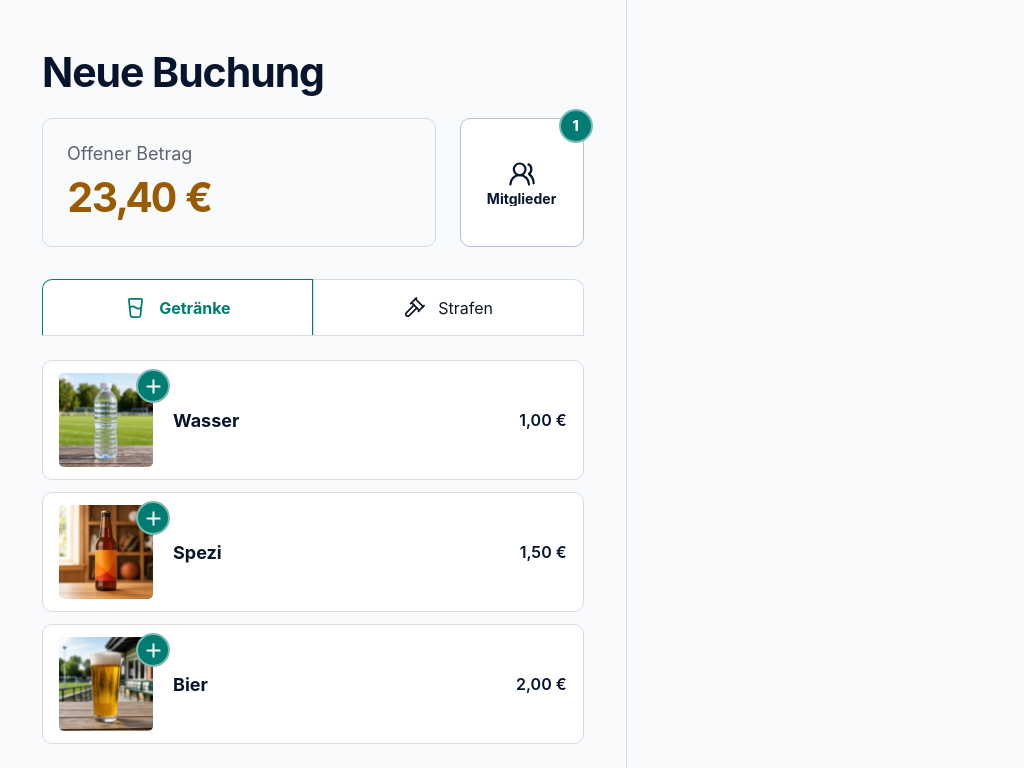
Scenario: BookingPage multi-product workspace › auto-minimizes after another fixed-price product without losing the booking draft
Click the button "Mitglieder 1" at (522, 183), box [460,118,584,247]
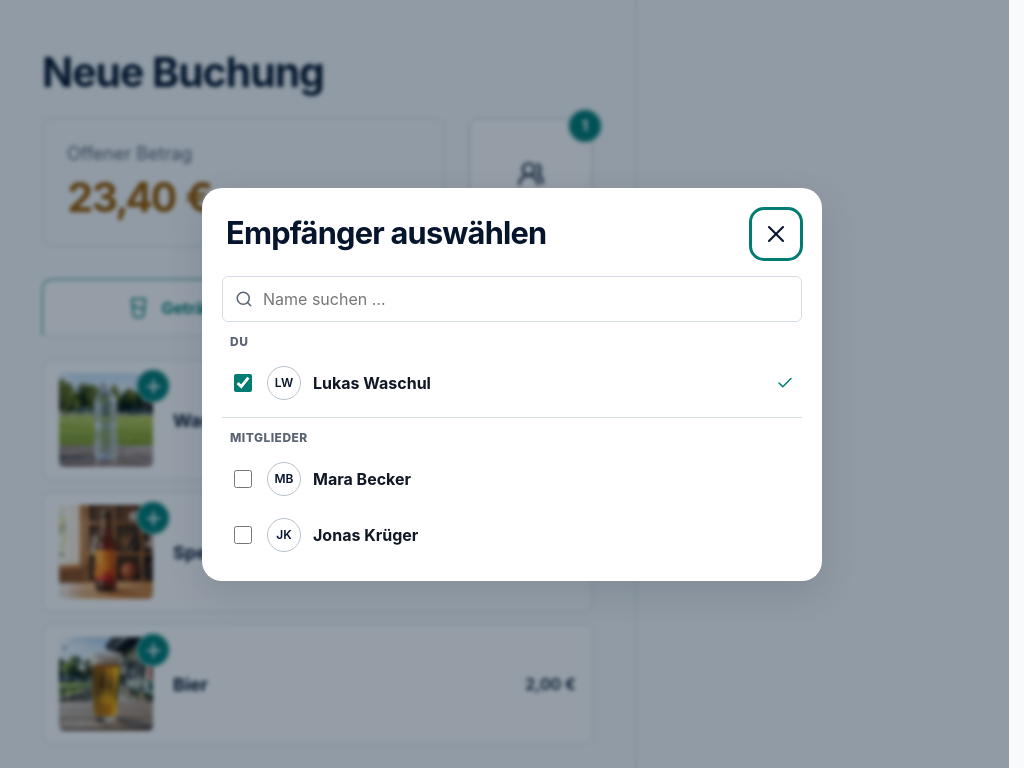
Click the checkbox labelled "MB Mara Becker" at (243, 478), box [234,470,252,488]
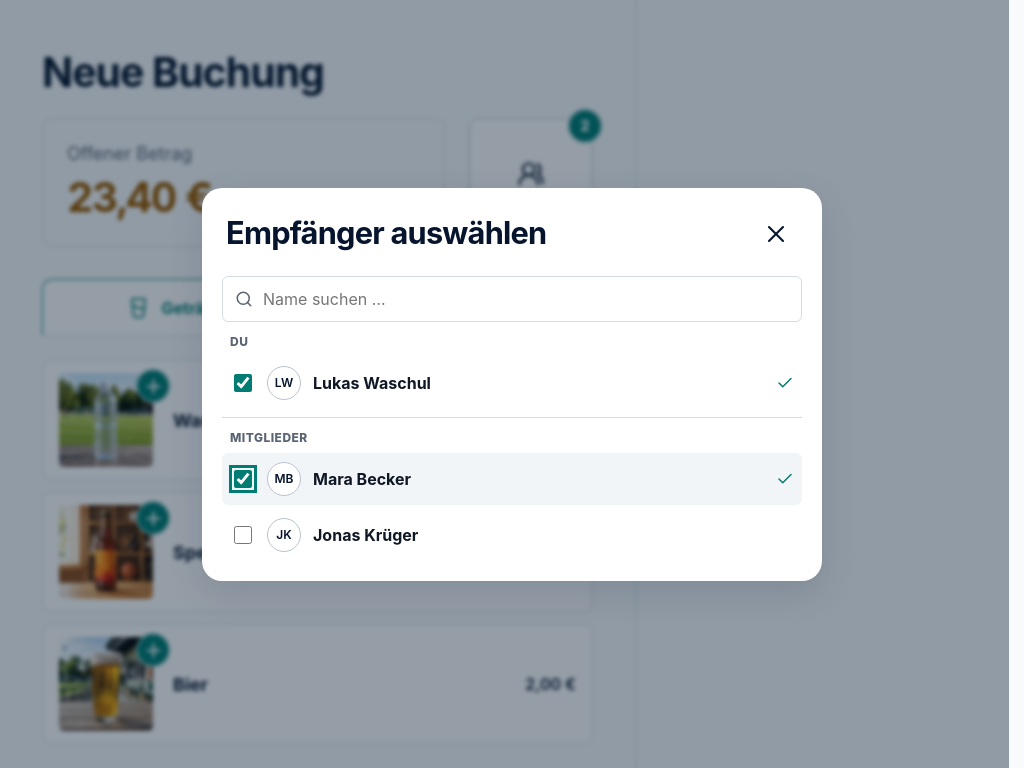
Click the button named "Dialog schließen" at (776, 234), box [754,212,798,256]
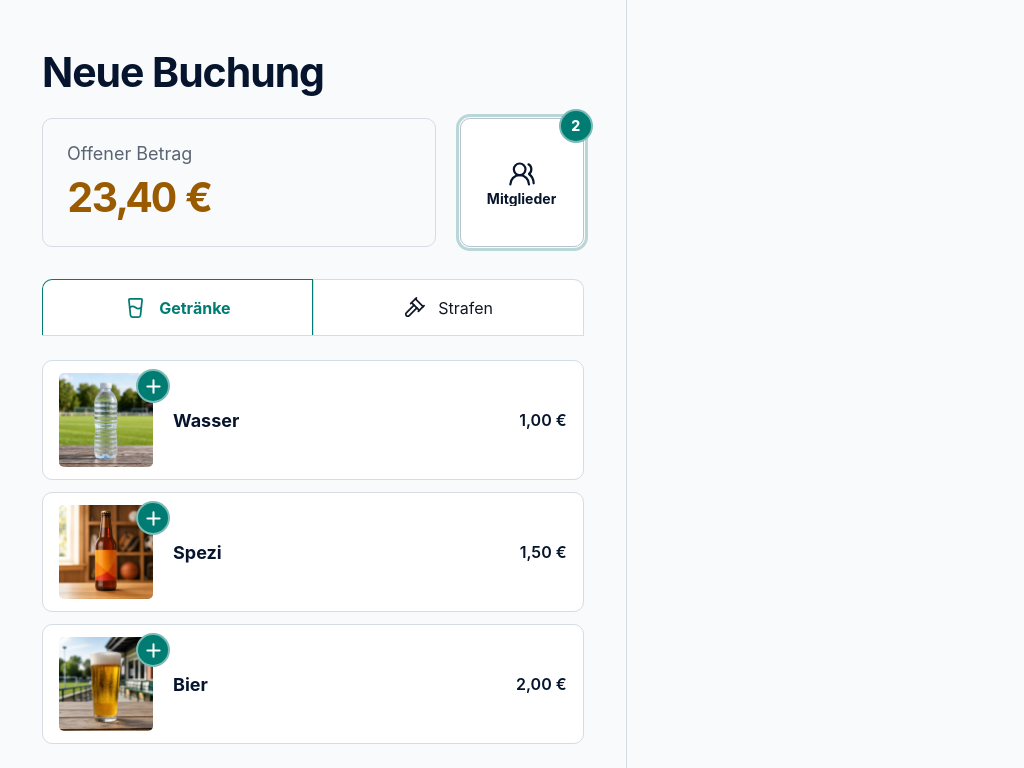
Click the button "W Wasser 1,00 €" at (106, 420), box [43,361,583,479]
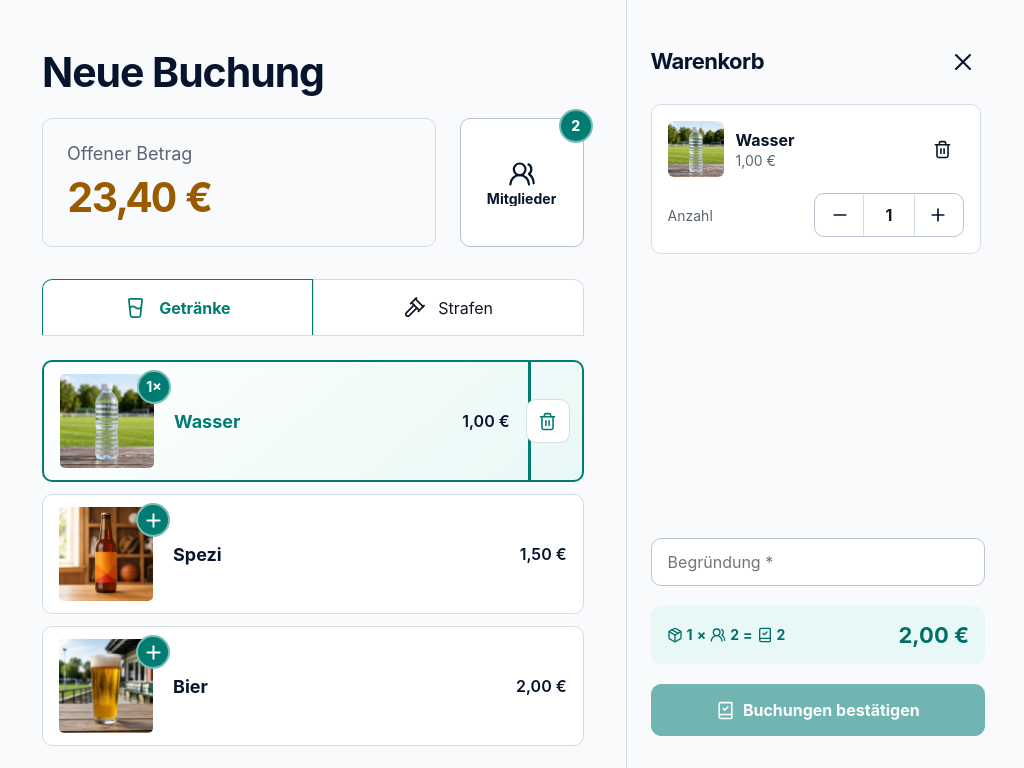
Expected: the button "W Wasser 1,00 € 1×" is shown, [44,362,526,480]
Click the button "S Spezi 1,50 €" at (106, 554), box [43,495,583,613]
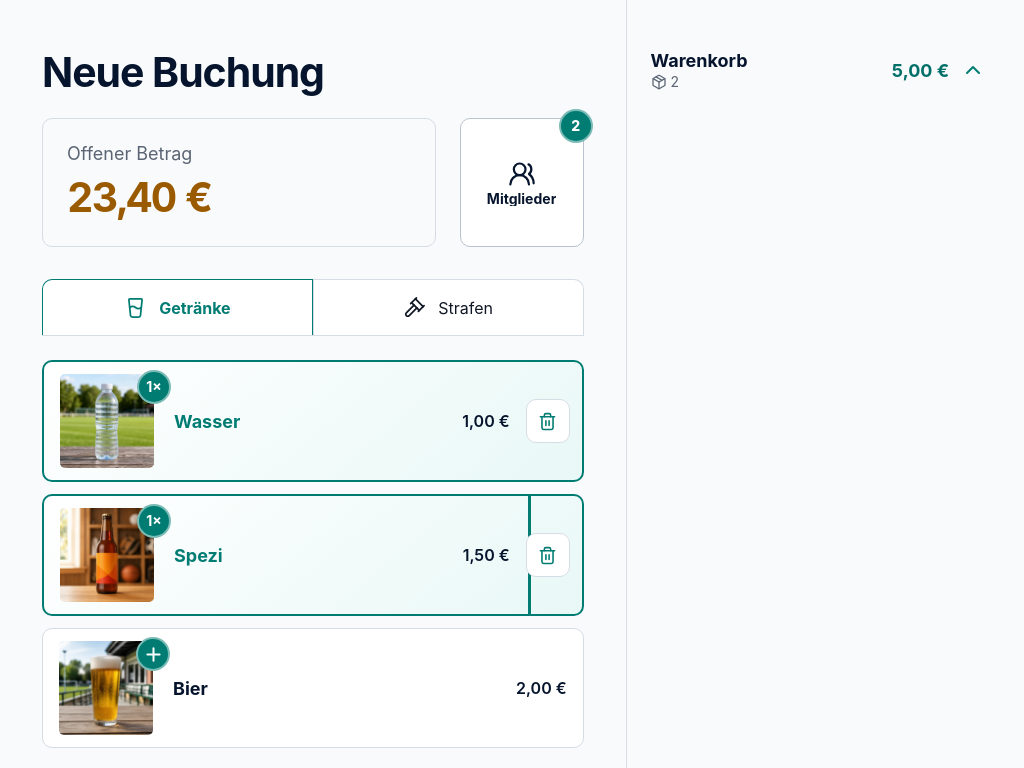
Expected: the button "Buchungen bestätigen" is gone
Click the button with aria-label "Warenkorb öffnen" at (699, 60), box [651,40,985,104]
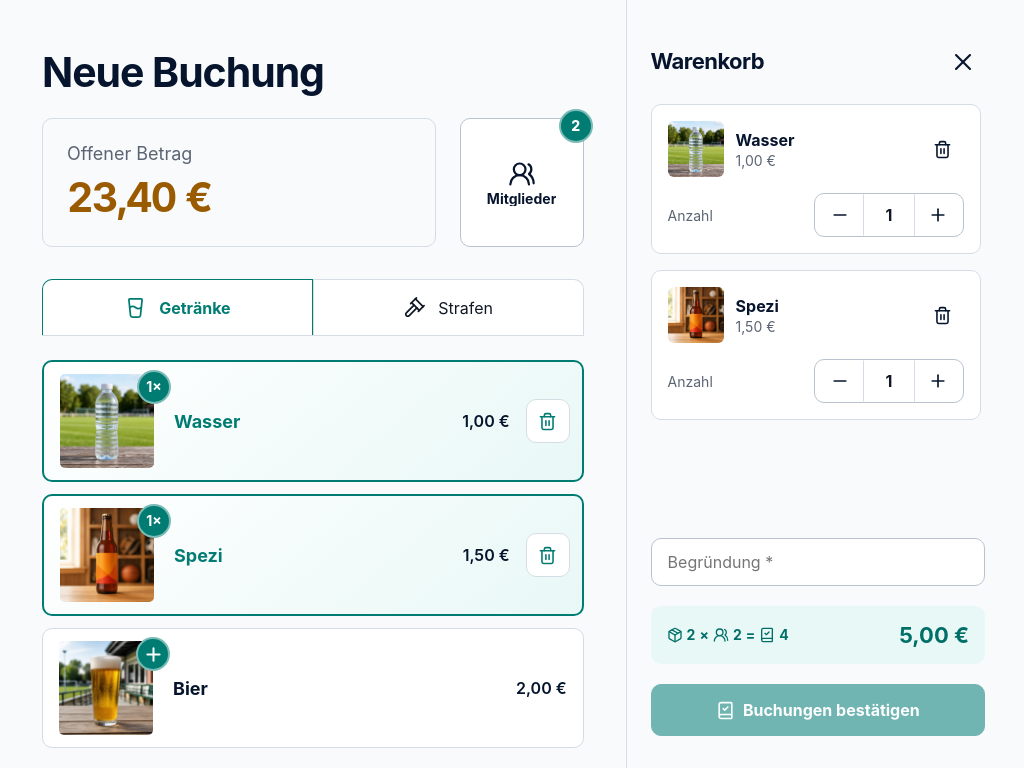
Expected: the button "Buchungen bestätigen" is disabled, [651,684,985,736]
